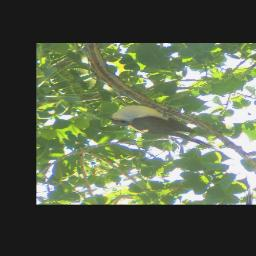Cuckoo: (104, 91, 220, 173)
